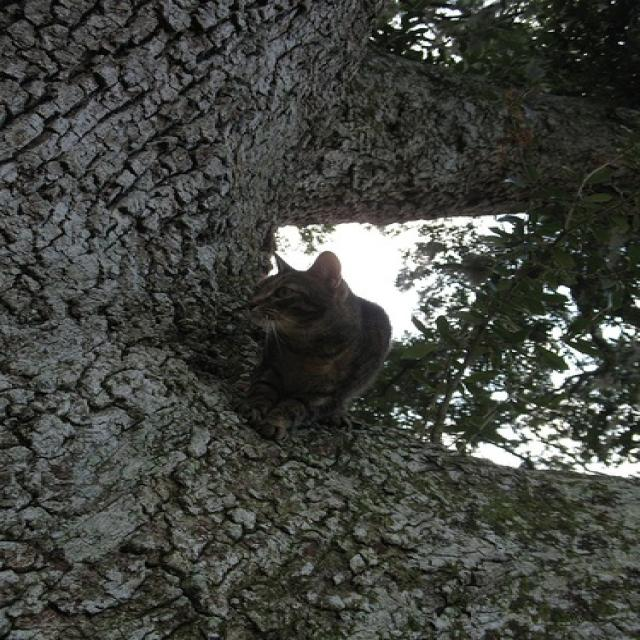cat: (234, 250, 391, 439)
